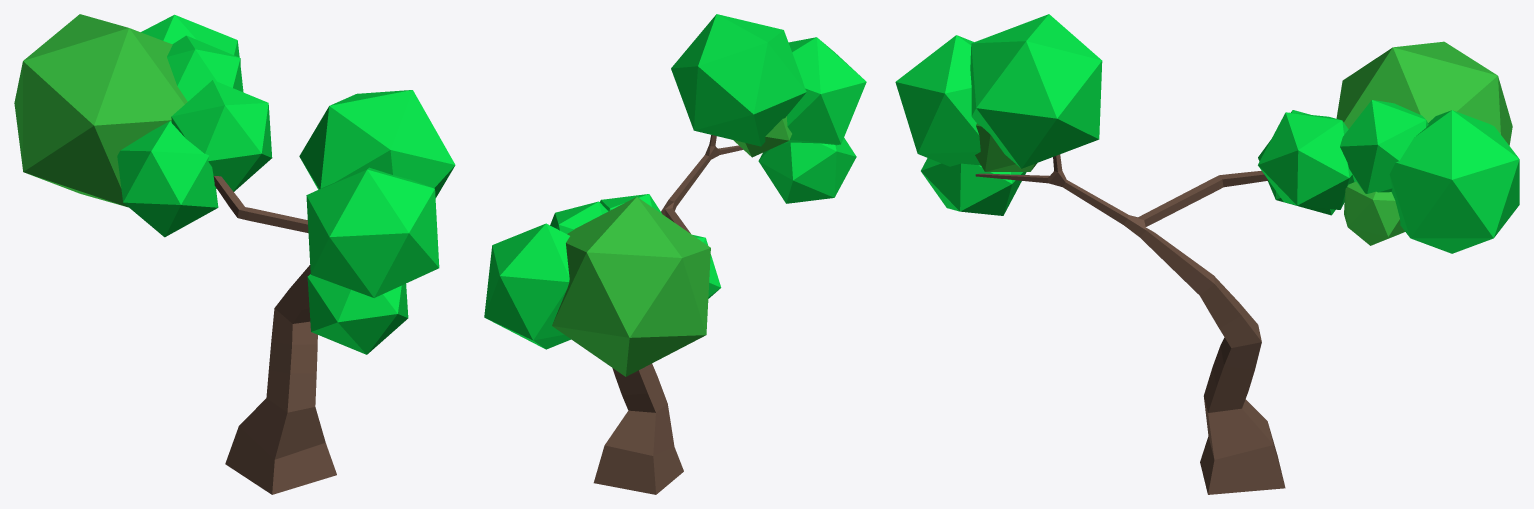
The model's file is arbol.fbx.
The picture shows the model from 3 angles, left to right: view 1: azimuth 30°, elevation 25°; view 2: azimuth 150°, elevation 25°; view 3: azimuth 270°, elevation 25°; orthographic projection. The views are drawn at different scales.
Visible parts, largest first — view 1: Icosphere.003, Cube, Icosphere.009, Icosphere.007, Icosphere.006, Icosphere.004, Icosphere.005, Icosphere.001, Icosphere; view 2: Icosphere.003, Icosphere.007, Cube, Icosphere, Icosphere.009, Icosphere.005, Icosphere.001, Icosphere.008, Icosphere.004; view 3: Cube, Icosphere.007, Icosphere, Icosphere.003, Icosphere.009, Icosphere.004, Icosphere.001, Icosphere.005, Icosphere.002, Icosphere.008.
Part boxes in pixels (<box>): Icosphere.003: <box>14,14,187,207</box>; Cube: <box>213,176,336,494</box>; Icosphere.009: <box>306,167,439,297</box>; Icosphere.007: <box>299,90,455,197</box>; Icosphere.006: <box>117,121,218,237</box>; Icosphere.004: <box>171,80,272,191</box>; Icosphere.005: <box>307,274,408,354</box>; Icosphere.001: <box>167,35,241,101</box>; Icosphere: <box>141,14,243,92</box>; Icosphere.003: <box>552,197,710,376</box>; Icosphere.007: <box>671,14,806,146</box>; Cube: <box>593,135,743,494</box>; Icosphere: <box>484,223,570,349</box>; Icosphere.009: <box>782,37,866,145</box>; Icosphere.005: <box>758,137,856,203</box>; Icosphere.001: <box>550,201,608,233</box>; Icosphere.008: <box>733,116,791,157</box>; Icosphere.004: <box>600,194,661,213</box>; Cube: <box>975,154,1285,494</box>; Icosphere.007: <box>970,14,1102,168</box>; Icosphere: <box>1389,110,1519,253</box>; Icosphere.003: <box>1336,41,1512,145</box>; Icosphere.009: <box>895,35,980,166</box>; Icosphere.004: <box>1258,112,1354,209</box>; Icosphere.001: <box>1340,100,1428,193</box>; Icosphere.005: <box>921,158,1026,215</box>; Icosphere.002: <box>1344,181,1404,245</box>; Icosphere.008: <box>975,123,1037,171</box>.
Bounding box in the file's own units: 1035 × 1946 × 2471.
